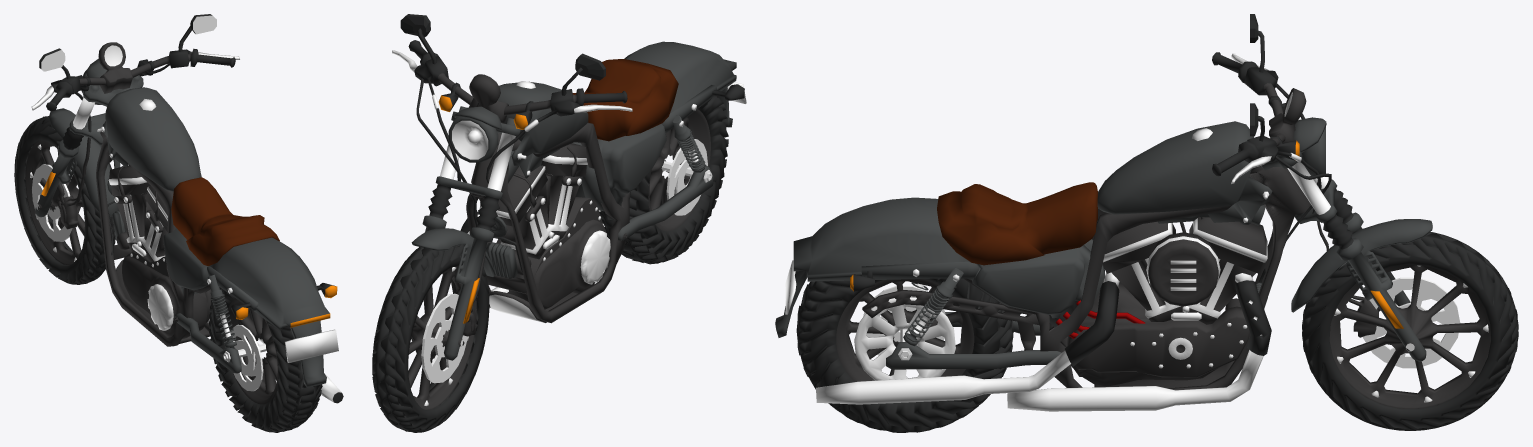
Rendered from harley_davidson_iron_883_2018.glb.
The picture shows the model from 3 angles, left to right: view 1: azimuth 30°, elevation 25°; view 2: azimuth 150°, elevation 25°; view 3: azimuth 270°, elevation 25°; orthographic projection. The views are drawn at different scales.
Parts seen in each view (by area): view 1: guardabarros trasero, tanque, neumatico trasero, neumatico delantero, asiento, barras, Cube.002, motor, motor.001, tapas traseras, manubrio, rueda delantera (+11 smaller); view 2: neumatico delantero, barras, Cube.002, motor, motor.001, neumatico trasero, asiento, tapas traseras, manubrio, guardabarros trasero, tanque, rueda delantera (+14 smaller); view 3: mofles, neumatico delantero, motor, tanque, neumatico trasero, asiento, guardabarros trasero, motor.001, Cube.002, barras, rueda delantera, tapas traseras (+11 smaller).
Part boxes in pixels (x1,y1,x2,y2): guardabarros trasero: (209, 237, 330, 387); tanque: (97, 87, 201, 191); neumatico trasero: (209, 287, 322, 432); neumatico delantero: (14, 116, 115, 284); asiento: (171, 177, 279, 266); barras: (35, 75, 143, 217); Cube.002: (96, 121, 210, 346); motor: (108, 164, 168, 267); motor.001: (116, 232, 211, 338); tapas traseras: (163, 228, 337, 319); manubrio: (31, 48, 239, 132); rueda delantera: (25, 140, 84, 264); neumatico delantero: (372, 244, 489, 432); barras: (411, 106, 520, 360); Cube.002: (466, 122, 630, 323); motor: (478, 143, 604, 261); motor.001: (487, 197, 610, 309); neumatico trasero: (599, 96, 728, 264); asiento: (572, 59, 678, 141); tapas traseras: (572, 84, 744, 211); manubrio: (392, 40, 632, 184); guardabarros trasero: (624, 41, 736, 127); tanque: (497, 81, 588, 183); rueda delantera: (408, 266, 476, 409); mofles: (816, 272, 1271, 411); neumatico delantero: (1302, 232, 1518, 430); motor: (1102, 216, 1267, 368); tanque: (1097, 121, 1272, 225); neumatico trasero: (796, 278, 1013, 432); asiento: (937, 182, 1097, 265); guardabarros trasero: (775, 197, 971, 337); motor.001: (1067, 281, 1249, 386); Cube.002: (964, 166, 1310, 390); barras: (1261, 151, 1432, 361); rueda delantera: (1329, 264, 1490, 408); tapas traseras: (850, 239, 1104, 327).
Bounding box in the file's own units: 3.85 × 5.16 × 9.48.
